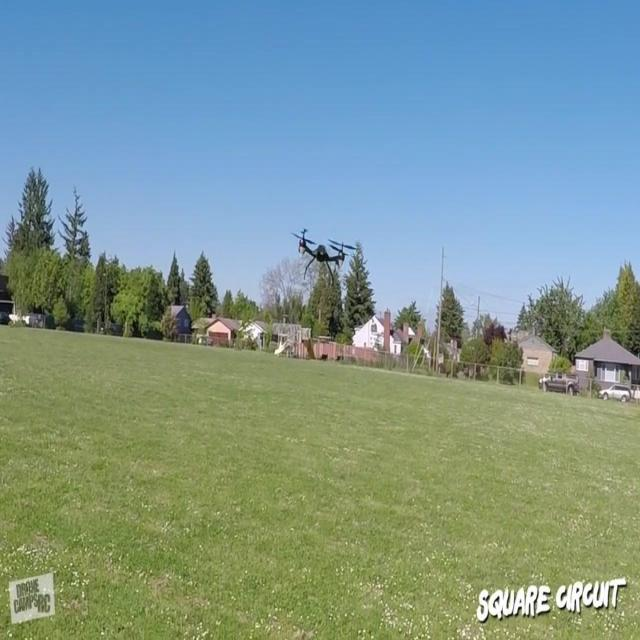UAV: (290, 228, 356, 286)
